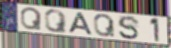1: (149, 17, 161, 43)
A: (67, 12, 94, 36)
Q: (43, 9, 68, 34), (92, 13, 116, 38), (20, 7, 43, 31)
S: (117, 15, 141, 40)
